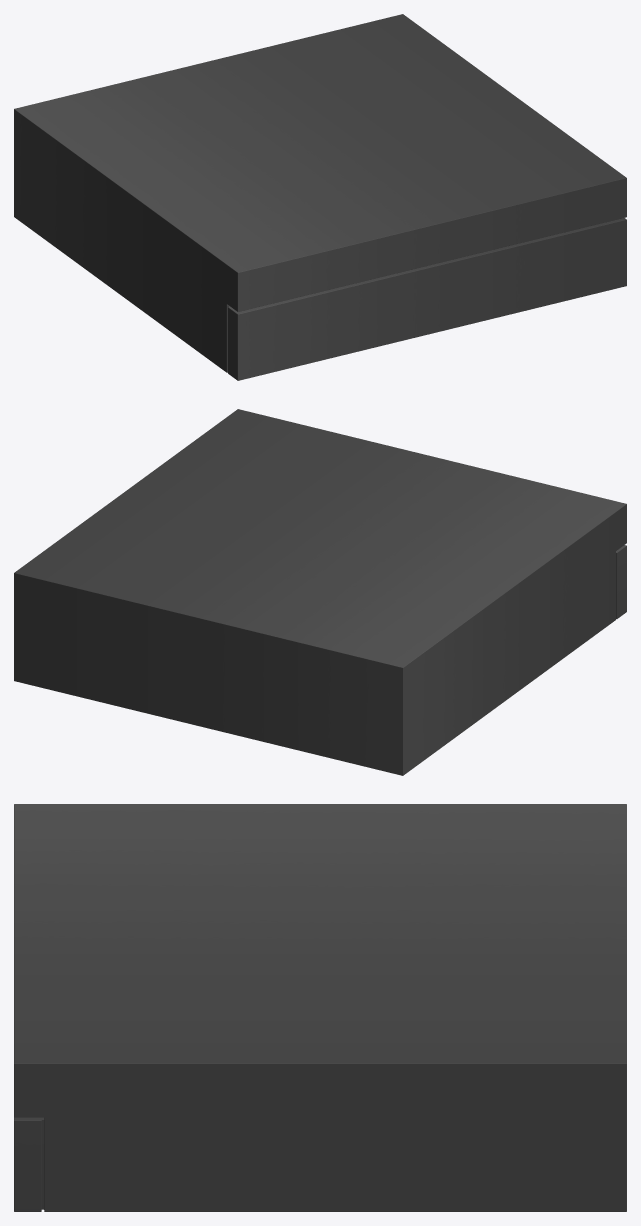
File: socle_caisse.fbx
The picture shows the model from 3 angles, top to bottom: view 1: azimuth 30°, elevation 25°; view 2: azimuth 150°, elevation 25°; view 3: azimuth 270°, elevation 25°; orthographic projection. The views are drawn at different scales.
Visible parts, largest first — view 1: caisse_bas; view 2: caisse_bas; view 3: caisse_bas.
Boxes of the visible parts, x1=… form: caisse_bas: x1=14, y1=14, x2=626, y2=380; caisse_bas: x1=14, y1=409, x2=626, y2=775; caisse_bas: x1=14, y1=804, x2=626, y2=1211.
Size of the model in its own units: 70.05 by 18.62 by 69.85.
